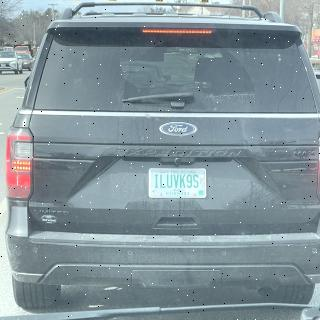license: (149, 169, 208, 199)
